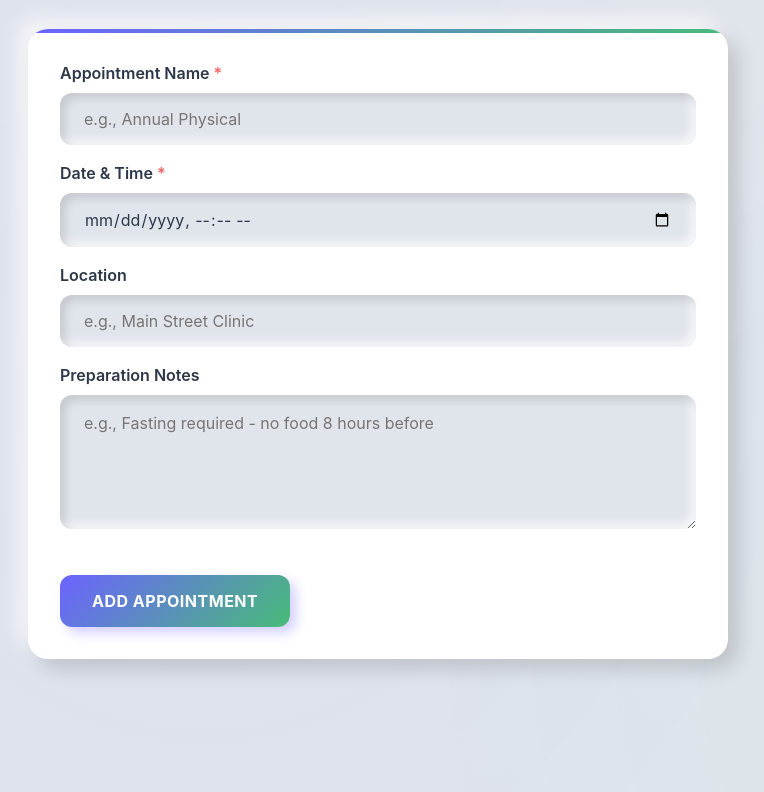
AppointmentForm › should display validation error for empty name
This screenshot has width=764, height=792.
Click the button "Add Appointment": (175, 601) [60,575,290,627]
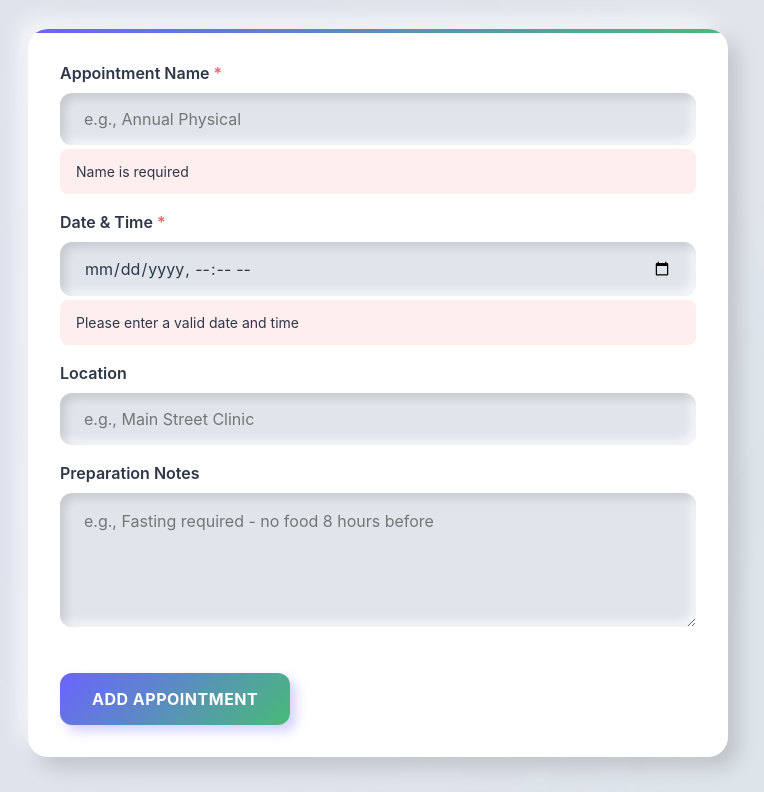
Check: the text "Name is required" is shown, box [60,149,696,194]
